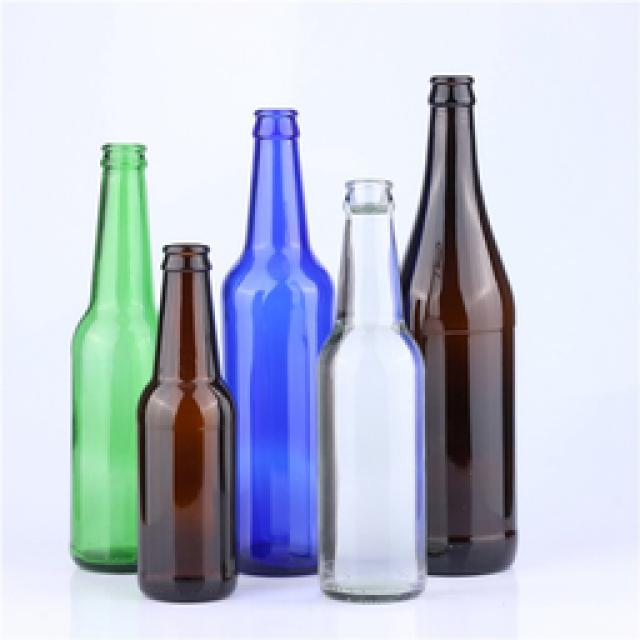glass_beverage_bottles: (400, 74, 515, 578), (222, 108, 323, 577), (327, 178, 418, 600), (74, 145, 158, 568), (138, 238, 235, 597)
